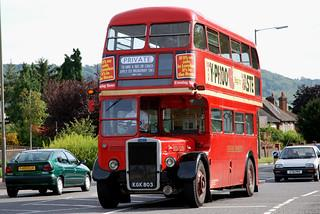bus: (88, 7, 261, 209)
car: (5, 147, 91, 196), (276, 143, 320, 179)
